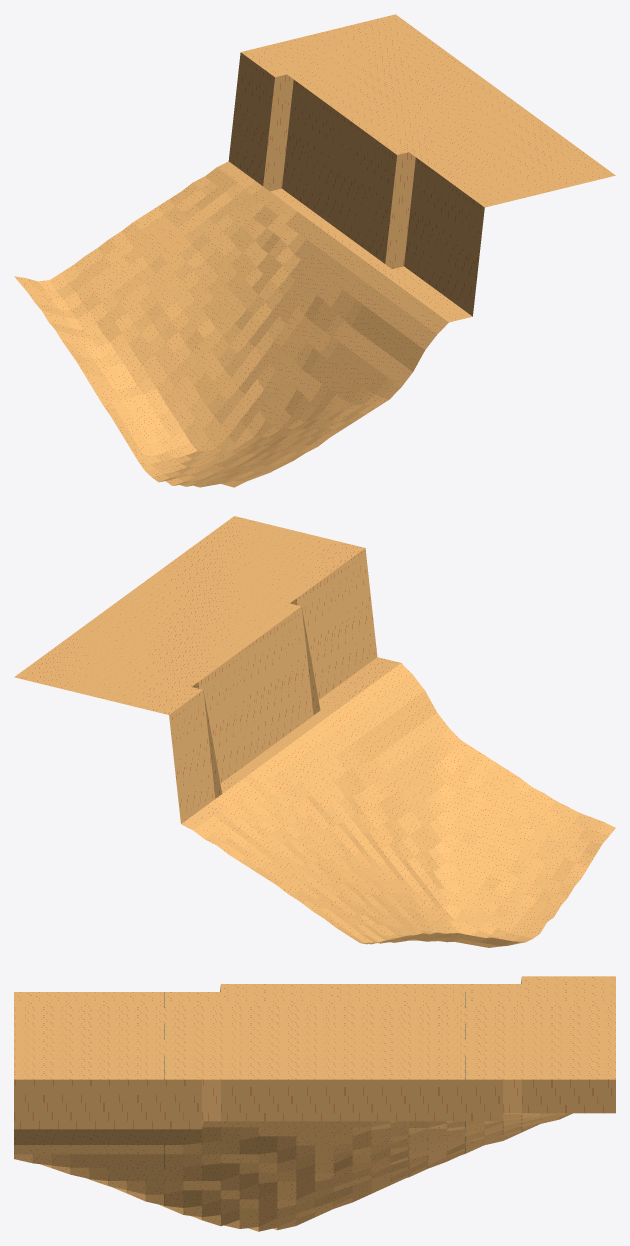
The model's file is map_chunked_015.gltf.
3 renders of one model, top to bottom at view 1: azimuth 30°, elevation 25°; view 2: azimuth 150°, elevation 25°; view 3: azimuth 270°, elevation 25°, orthographic. The views are drawn at different scales.
Parts seen in each view (by area): view 1: map_chunked.015; view 2: map_chunked.015; view 3: map_chunked.015.
Boxes of the visible parts, x1,y1,x2,y2 form: map_chunked.015: [14, 14, 615, 487]; map_chunked.015: [14, 516, 615, 947]; map_chunked.015: [14, 976, 615, 1231].
Bounding box in the file's own units: 32 × 21.56 × 32.
1 material, 1 textured.
